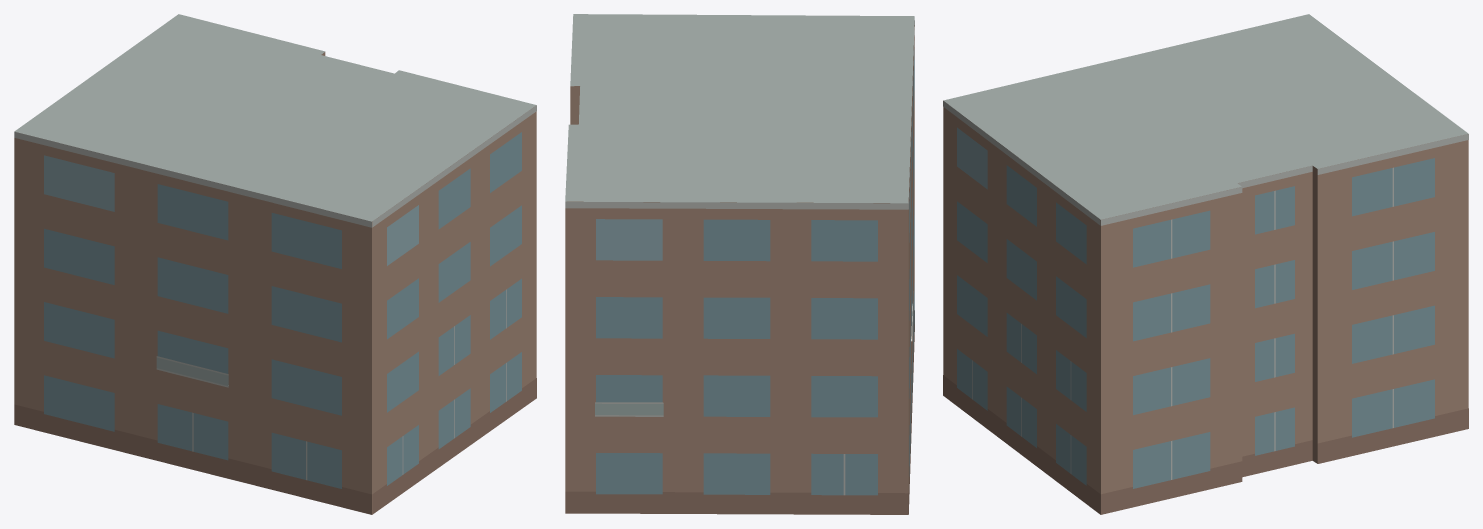
File: survey-upis-32612910.glb
3 renders of one model, left to right at view 1: azimuth 30°, elevation 25°; view 2: azimuth 150°, elevation 25°; view 3: azimuth 270°, elevation 25°, orthographic. The views are drawn at different scales.
Parts seen in each view (by area): view 1: survey-upis-32612910.tmp; view 2: survey-upis-32612910.tmp; view 3: survey-upis-32612910.tmp.
Boxes of the visible parts, box(x1,y1,x2,y2) form: survey-upis-32612910.tmp: box(14, 14, 536, 514); survey-upis-32612910.tmp: box(565, 14, 914, 514); survey-upis-32612910.tmp: box(943, 14, 1468, 514).
Size of the model in its own units: 17.51 by 11.7 by 18.9.
